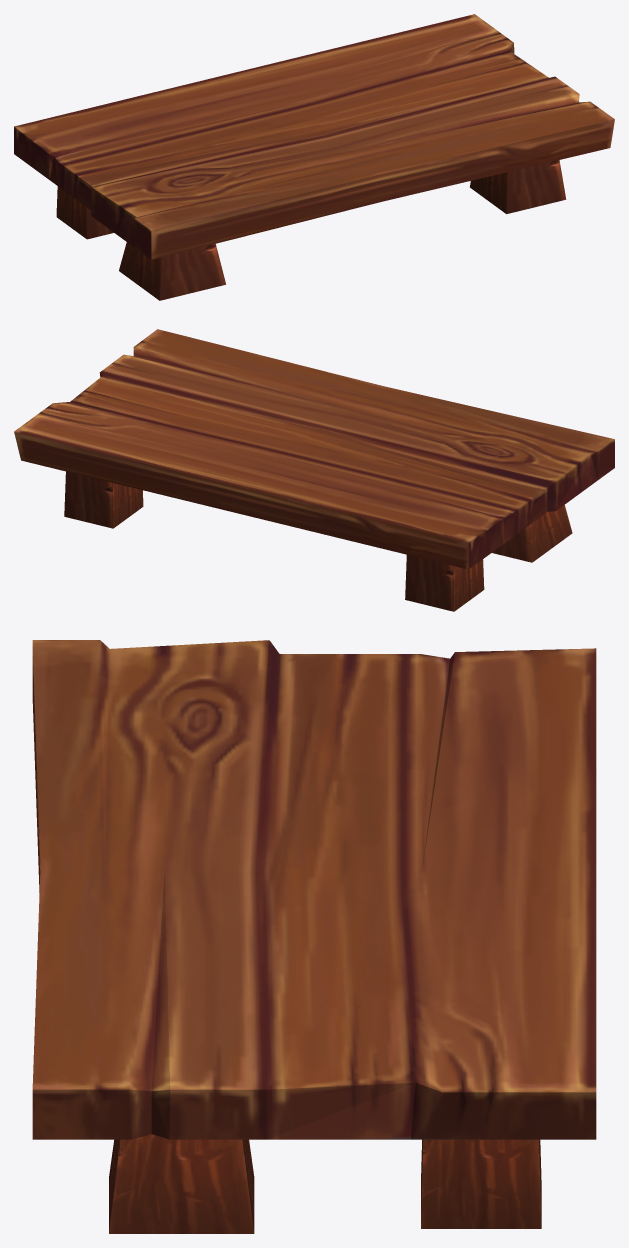
The model's file is ZhuoZi02.FBX.
The picture shows the model from 3 angles, top to bottom: view 1: azimuth 30°, elevation 25°; view 2: azimuth 150°, elevation 25°; view 3: azimuth 270°, elevation 25°; orthographic projection. The views are drawn at different scales.
Parts seen in each view (by area): view 1: ZhuoZi02; view 2: ZhuoZi02; view 3: ZhuoZi02.
Boxes of the visible parts, x1,y1,x2,y2 form: ZhuoZi02: (14, 14, 614, 300); ZhuoZi02: (14, 329, 614, 611); ZhuoZi02: (32, 640, 596, 1233).
Bounding box in the file's own units: 220 × 40.05 × 117.
